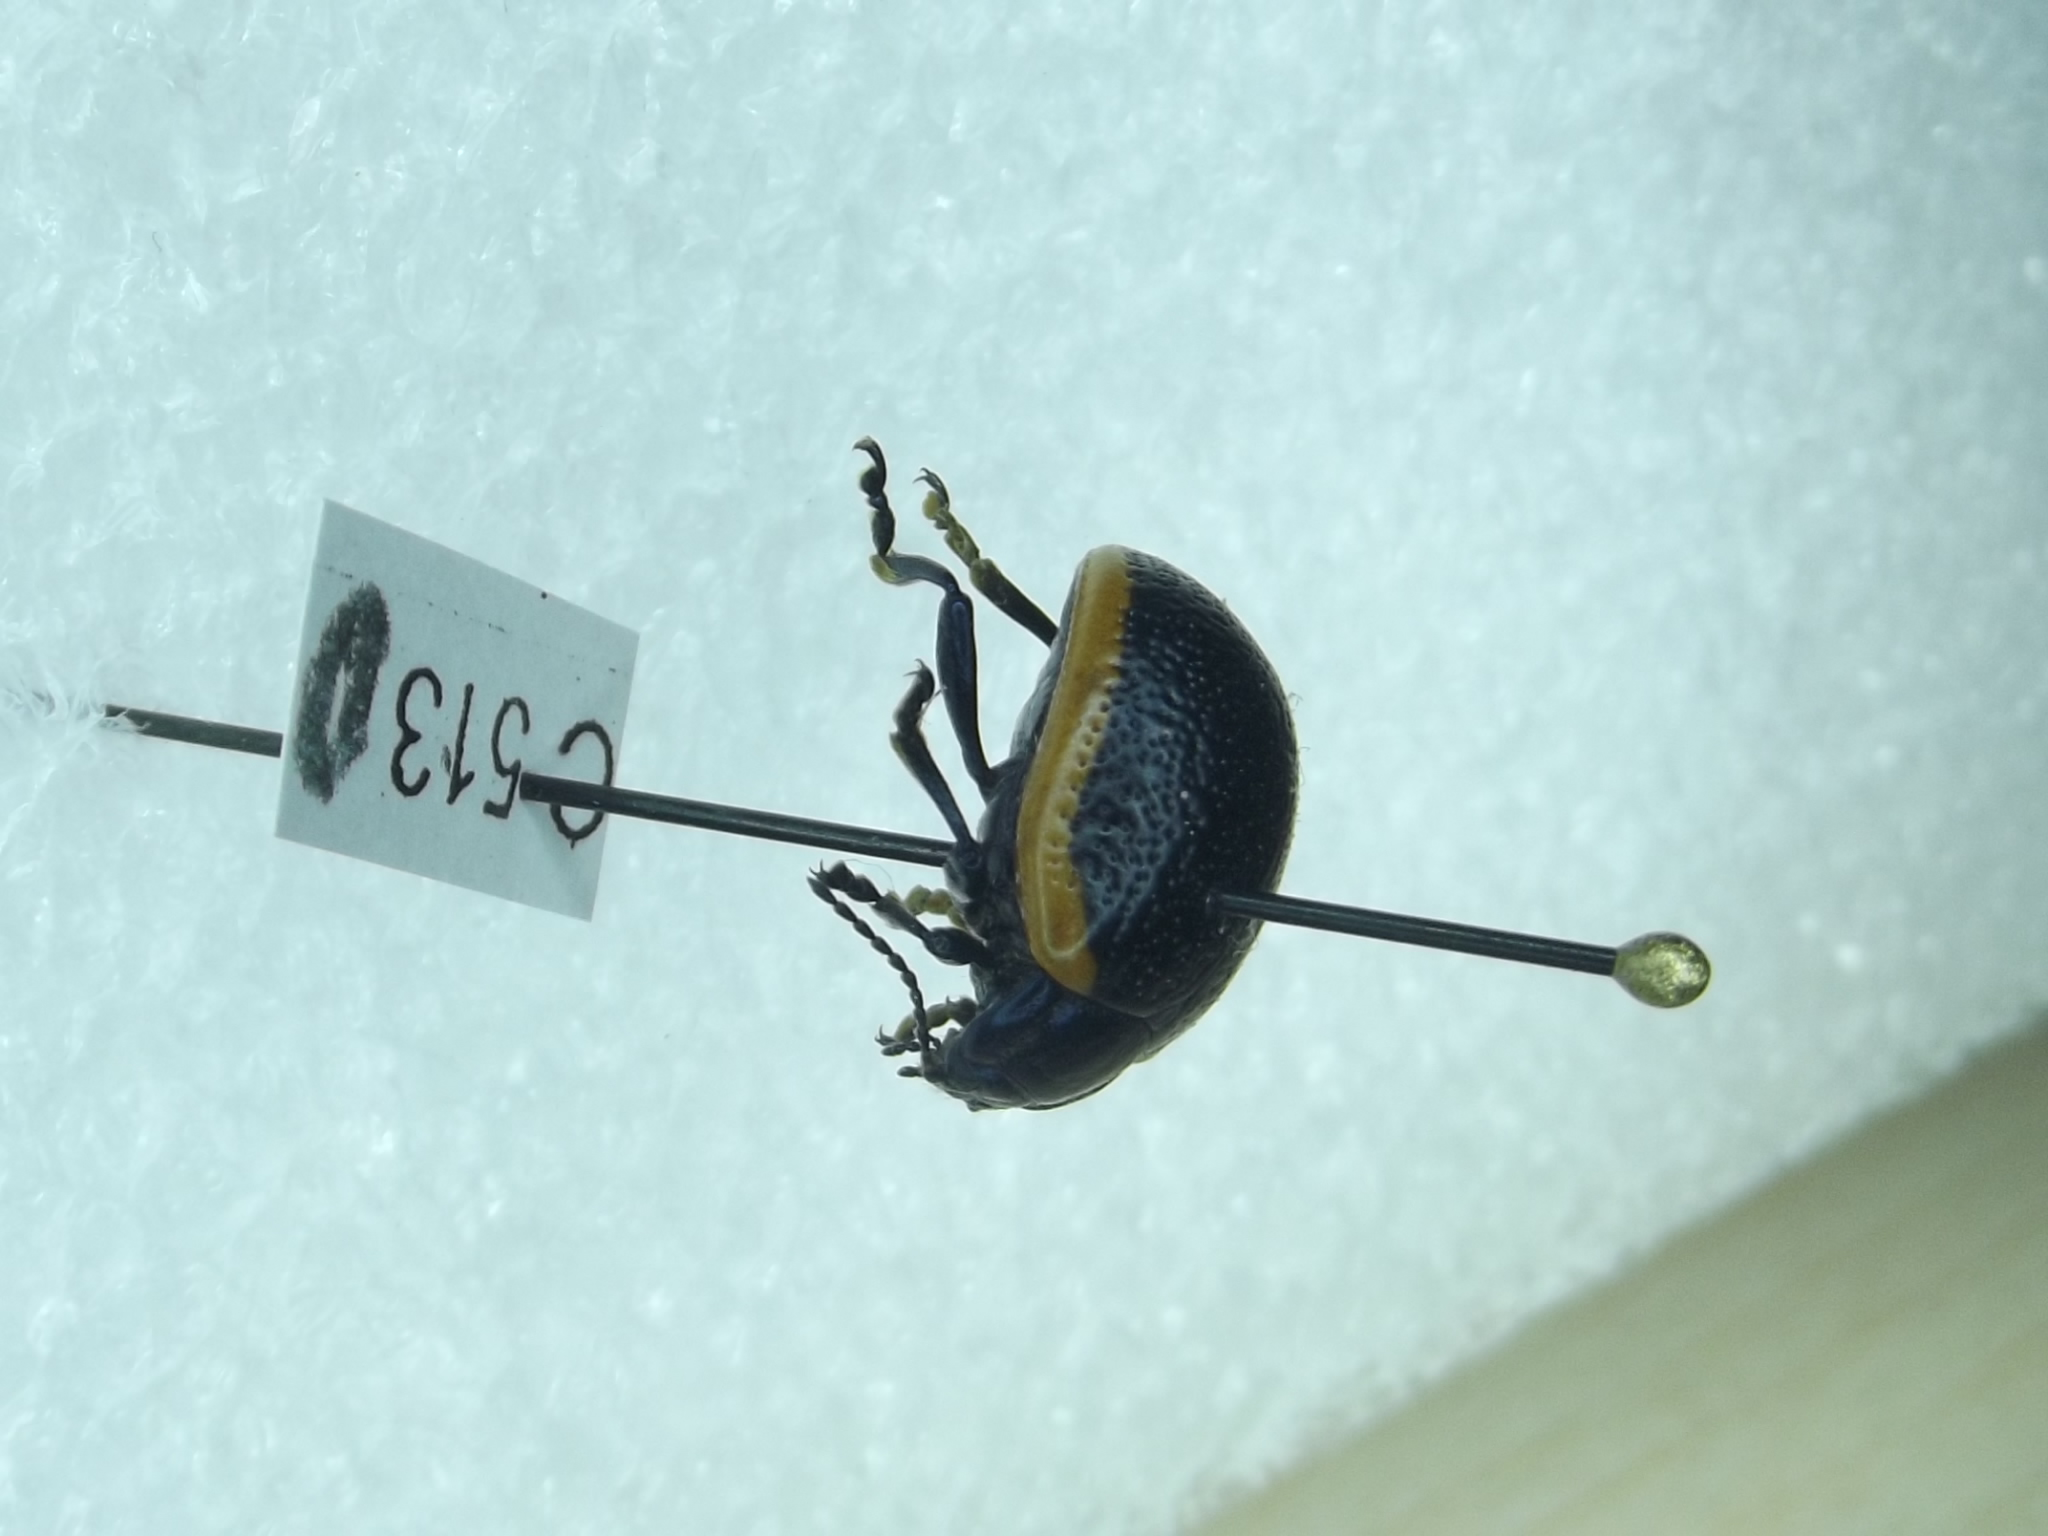Chrysolina_gypsophila: (792, 419, 1317, 1126)
